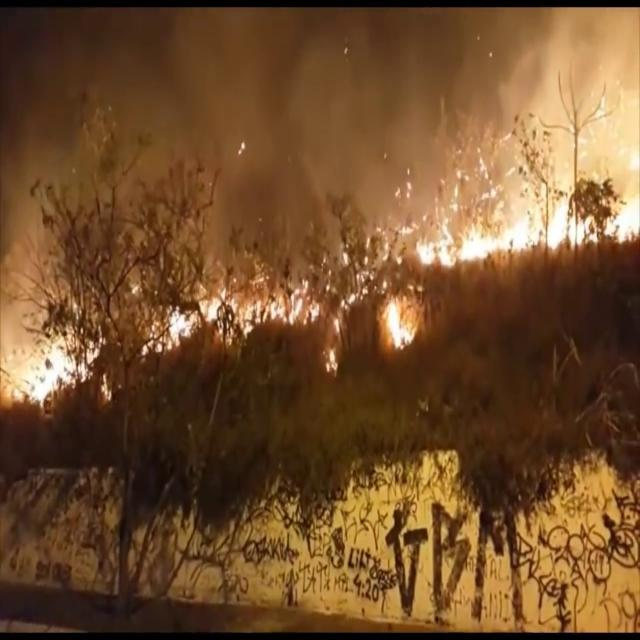Fire: (414, 176, 636, 276), (143, 276, 320, 360), (0, 328, 95, 410), (383, 288, 423, 346)
Smoke: (0, 1, 407, 328), (406, 5, 640, 194)
